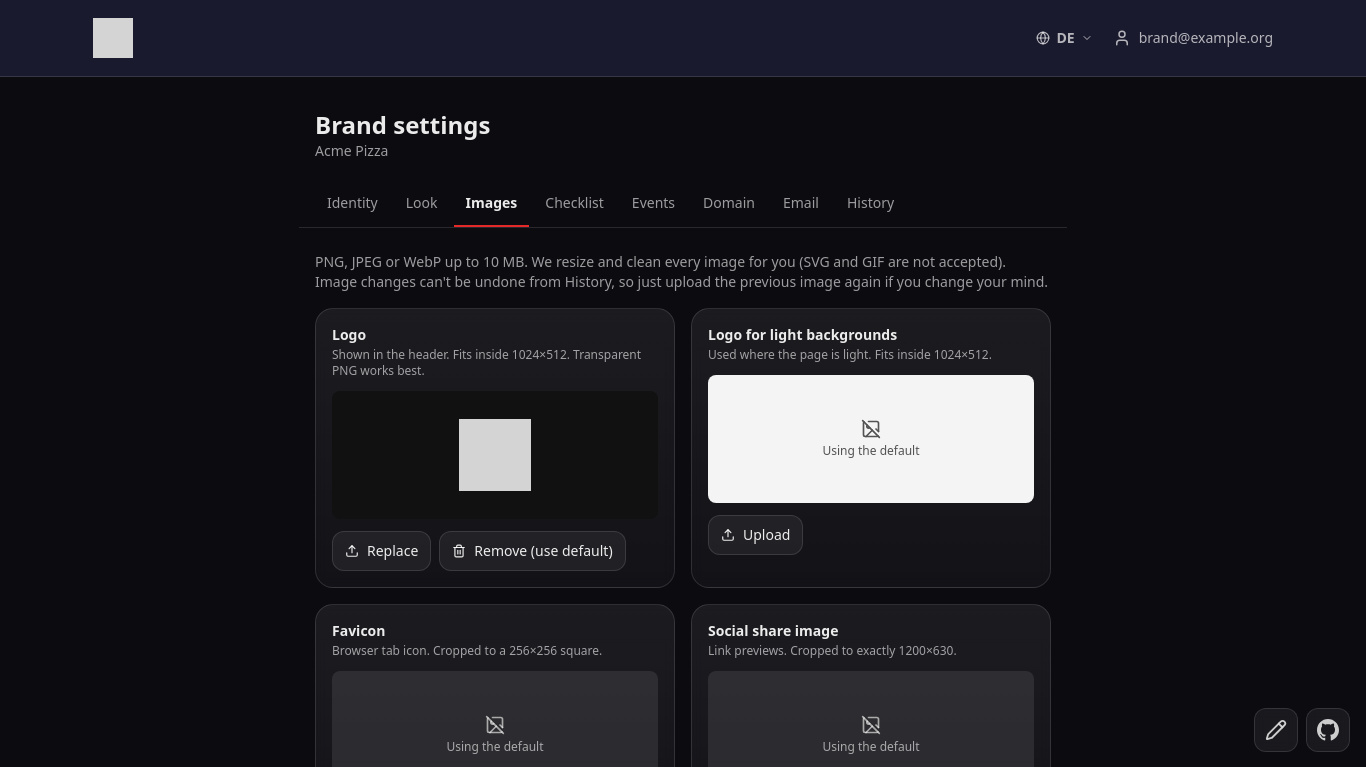
Test case: Images tab › removes an image after confirming
The image size is (1366, 767).
Click the button "Remove (use default)". click: (532, 551)
box: [439,531,626,571]
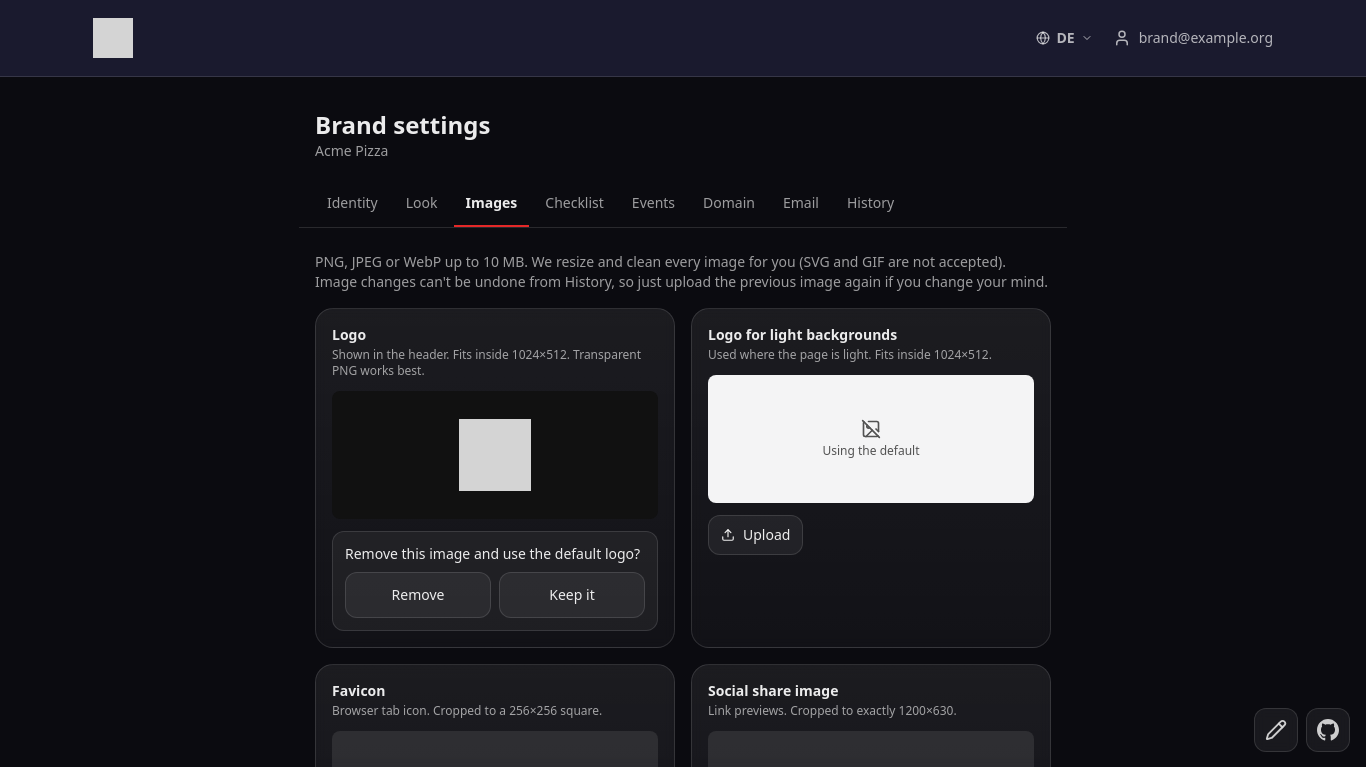
Click the button "Remove". click: (418, 595)
box: [345,572,491,618]
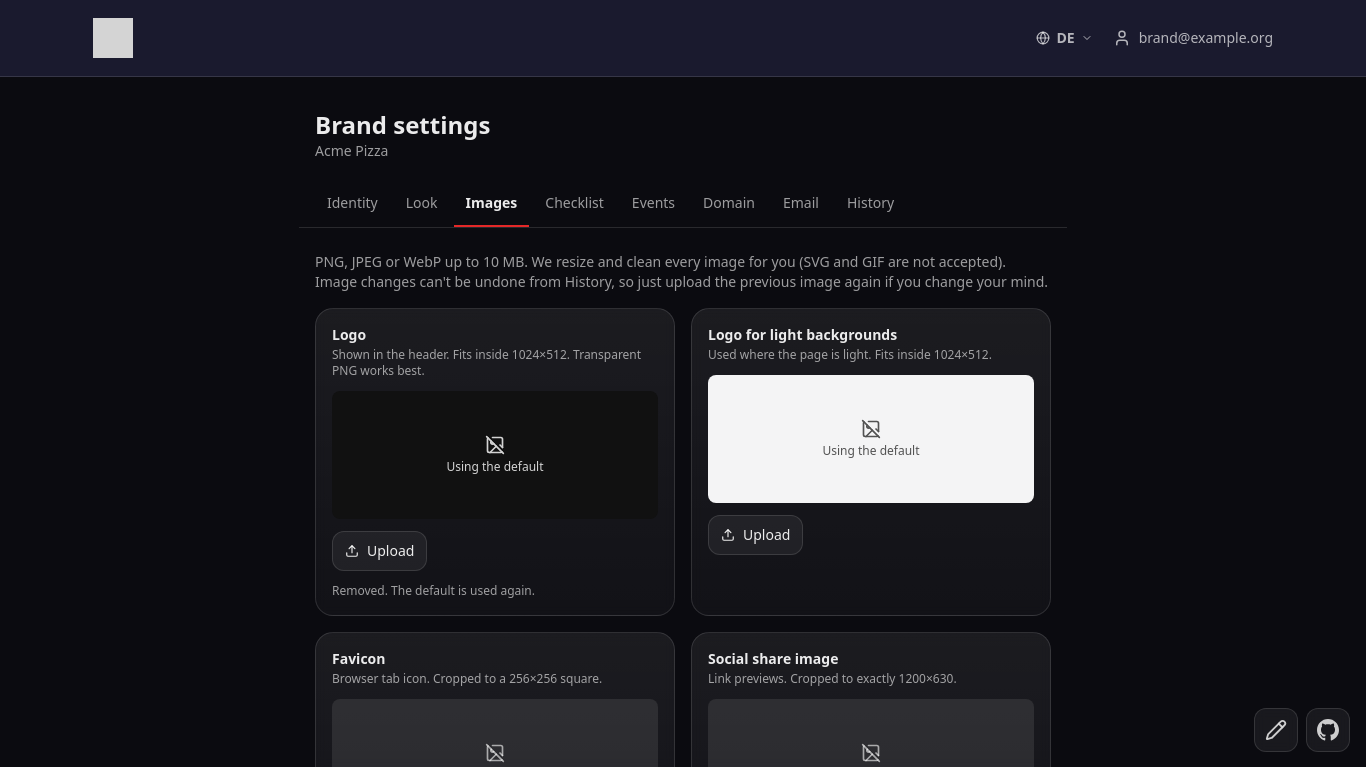
Check: the 2nd text "Using the default" is shown, box [446,459,544,475]
